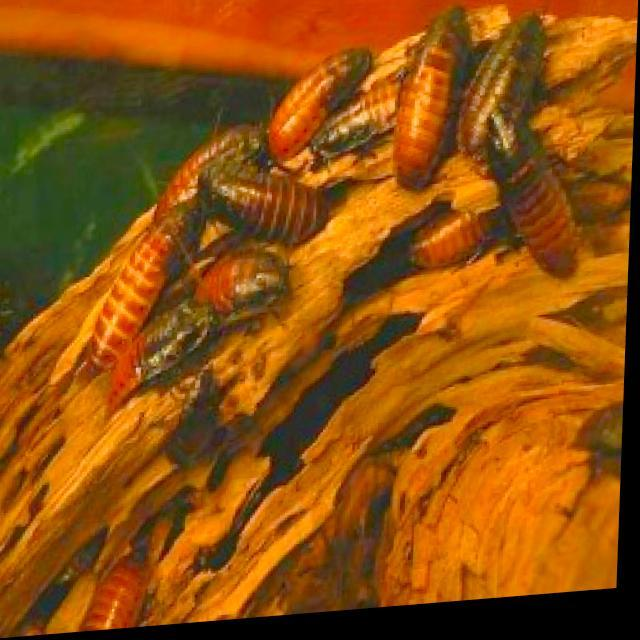cockroach: (80, 185, 231, 378), (486, 105, 590, 295), (391, 0, 477, 208), (451, 8, 567, 160), (252, 33, 378, 165), (82, 319, 253, 411), (170, 165, 342, 249), (163, 259, 342, 329), (75, 494, 150, 640), (381, 188, 520, 260)
